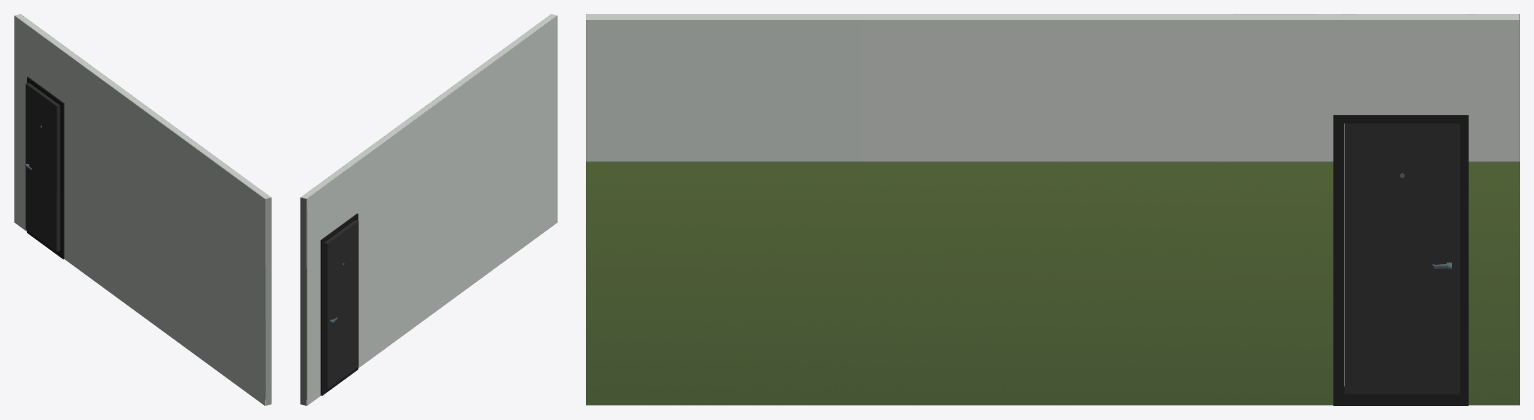
File: inner_wall_ebtrance_type2.FBX
3 renders of one model, left to right at view 1: azimuth 30°, elevation 25°; view 2: azimuth 150°, elevation 25°; view 3: azimuth 270°, elevation 25°, orthographic. The views are drawn at different scales.
Parts seen in each view (by area): view 1: inner_wall_ebtrance_type2_003, Outer_Metall_door_015; view 2: inner_wall_ebtrance_type2_003, Outer_Metall_door_015; view 3: inner_wall_ebtrance_type2_003, Outer_Metall_door_015.
Part boxes in pixels (left/top/right/bottom): inner_wall_ebtrance_type2_003: left=14, top=14, right=271, bottom=405; Outer_Metall_door_015: left=25, top=83, right=60, bottom=251; inner_wall_ebtrance_type2_003: left=300, top=14, right=557, bottom=405; Outer_Metall_door_015: left=324, top=220, right=358, bottom=388; inner_wall_ebtrance_type2_003: left=586, top=14, right=1519, bottom=405; Outer_Metall_door_015: left=1344, top=123, right=1460, bottom=387.
Bounding box in the file's own units: 53.54 × 698 × 1533.
2 materials, 2 textured.
